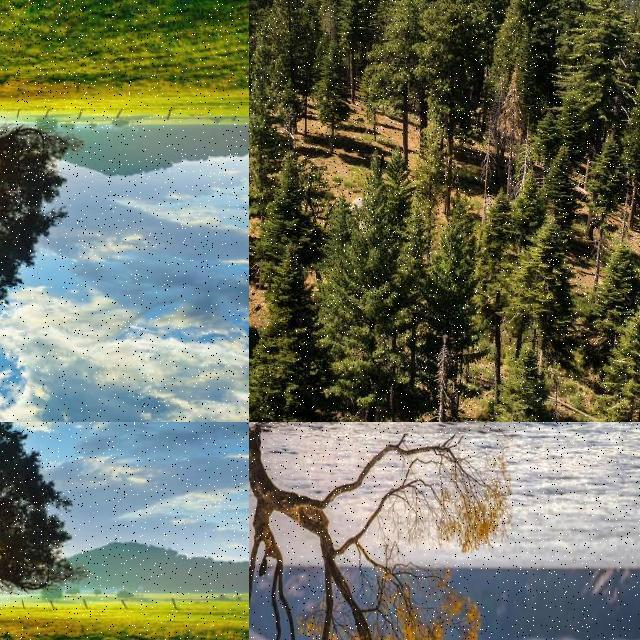tree: (248, 436, 512, 640), (0, 60, 126, 324), (0, 422, 126, 640), (328, 158, 419, 422), (405, 6, 491, 208), (250, 226, 314, 422), (540, 0, 620, 120), (482, 0, 550, 138), (508, 212, 572, 338), (362, 0, 422, 120), (596, 268, 640, 422), (429, 196, 479, 300), (264, 246, 316, 334), (596, 242, 638, 326), (249, 74, 279, 190), (583, 136, 625, 216), (312, 43, 352, 127), (249, 198, 281, 294), (249, 196, 277, 304), (248, 265, 272, 389), (249, 76, 273, 196), (620, 56, 640, 188), (338, 0, 382, 56), (540, 147, 576, 210), (512, 168, 544, 232), (250, 0, 270, 66), (270, 0, 302, 32), (249, 1, 275, 40)
